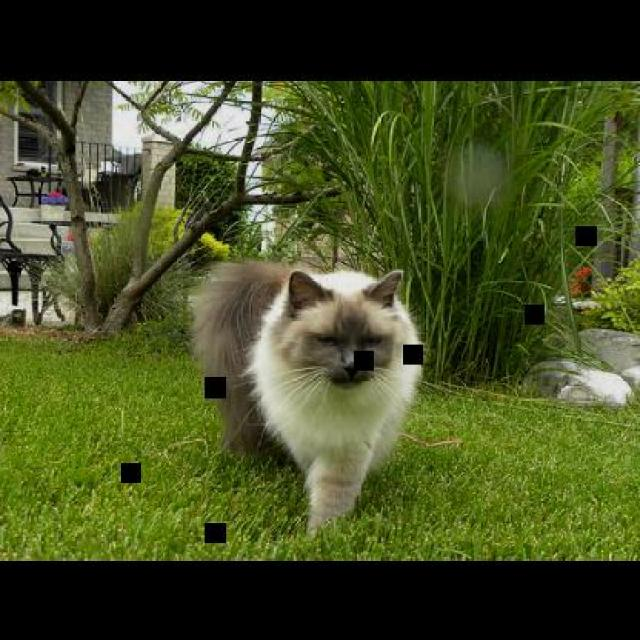unauthorized: (186, 255, 425, 536)
